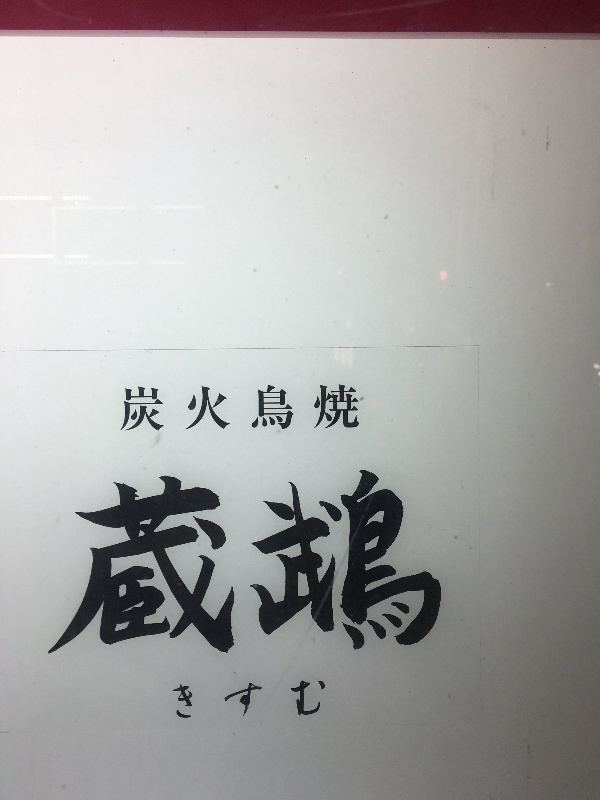text: (433, 464, 449, 669), (97, 464, 112, 669), (113, 464, 128, 669), (129, 464, 144, 669), (145, 464, 160, 669), (161, 464, 176, 669), (177, 464, 192, 669), (193, 464, 208, 669), (209, 464, 224, 669), (225, 464, 240, 669), (241, 464, 256, 669), (257, 464, 272, 669), (273, 464, 288, 669), (289, 464, 304, 669), (305, 464, 320, 669), (321, 464, 336, 669), (337, 464, 352, 669), (353, 464, 368, 669), (369, 464, 384, 669), (385, 464, 400, 669), (401, 464, 416, 669), (417, 464, 432, 669), (83, 464, 96, 669), (129, 383, 144, 434), (145, 383, 160, 434), (161, 383, 176, 434), (177, 383, 192, 434), (193, 383, 208, 434), (209, 383, 224, 434), (225, 383, 240, 434), (241, 383, 256, 434), (257, 383, 272, 434), (273, 383, 288, 434), (289, 383, 304, 434), (305, 383, 320, 434), (321, 383, 336, 434), (337, 383, 352, 434), (177, 683, 192, 722), (225, 680, 240, 718), (241, 680, 256, 718), (257, 680, 272, 718), (273, 680, 288, 718), (289, 680, 304, 718), (305, 680, 320, 718), (353, 383, 360, 434), (321, 680, 329, 718), (124, 383, 128, 434), (172, 683, 176, 722), (193, 683, 194, 722)
